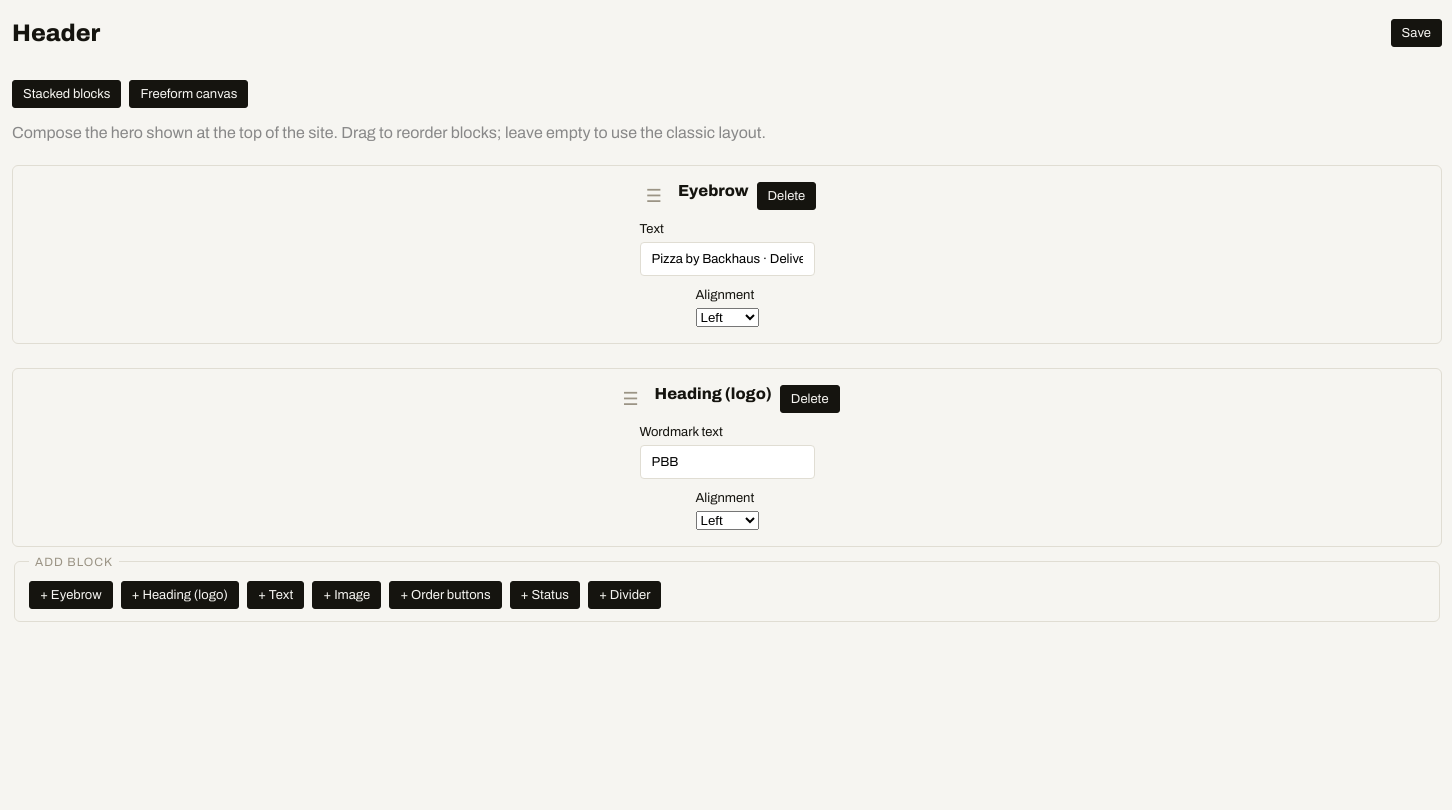
it: HeaderBuilder › deletes a block
This screenshot has width=1452, height=810.
What coordinates should you click on to do the following:
click the 1st button "Delete"
I would click on:
 (786, 196)
Its box is [756,182,816,210].
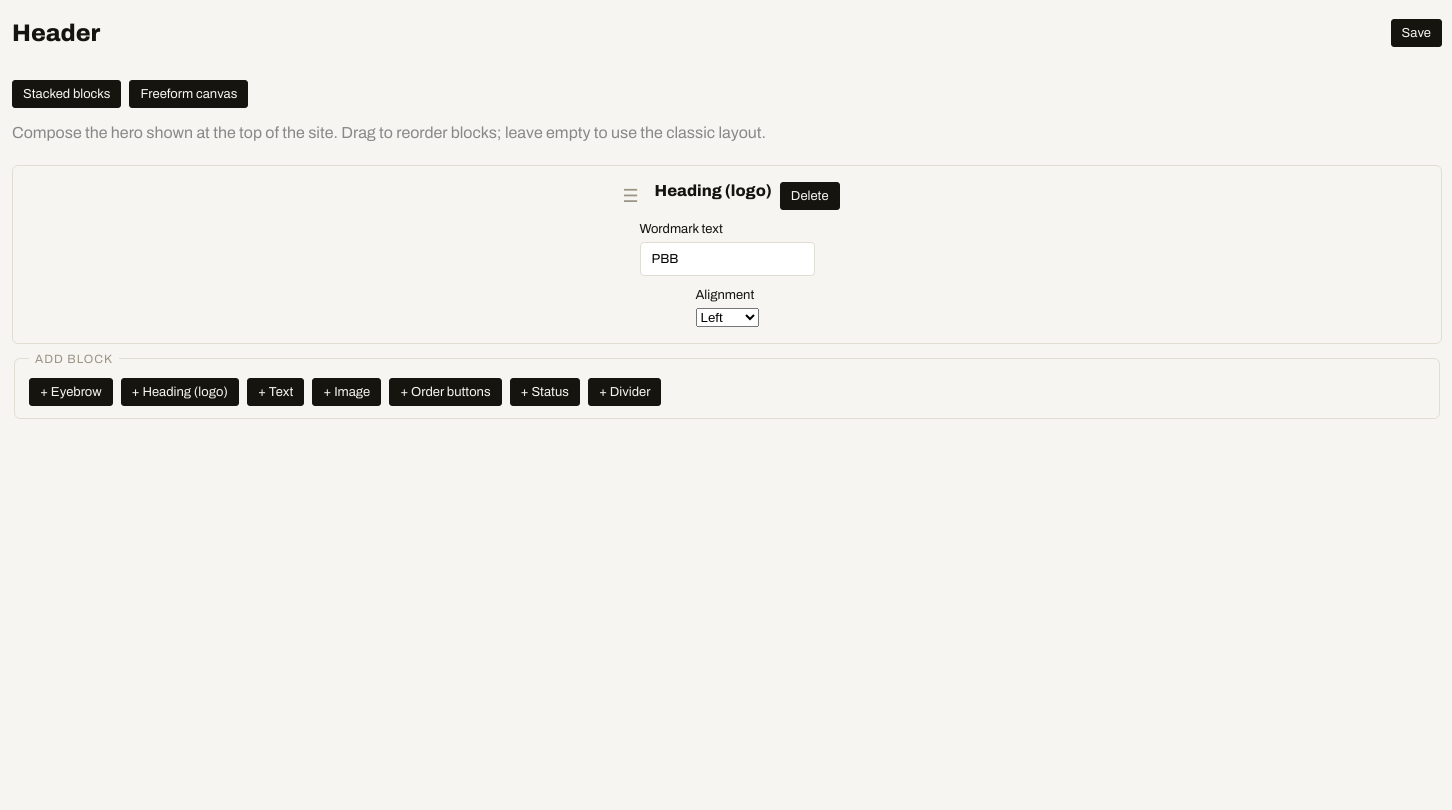
Expected: the number of list items is 1, [12,165,1442,344]
